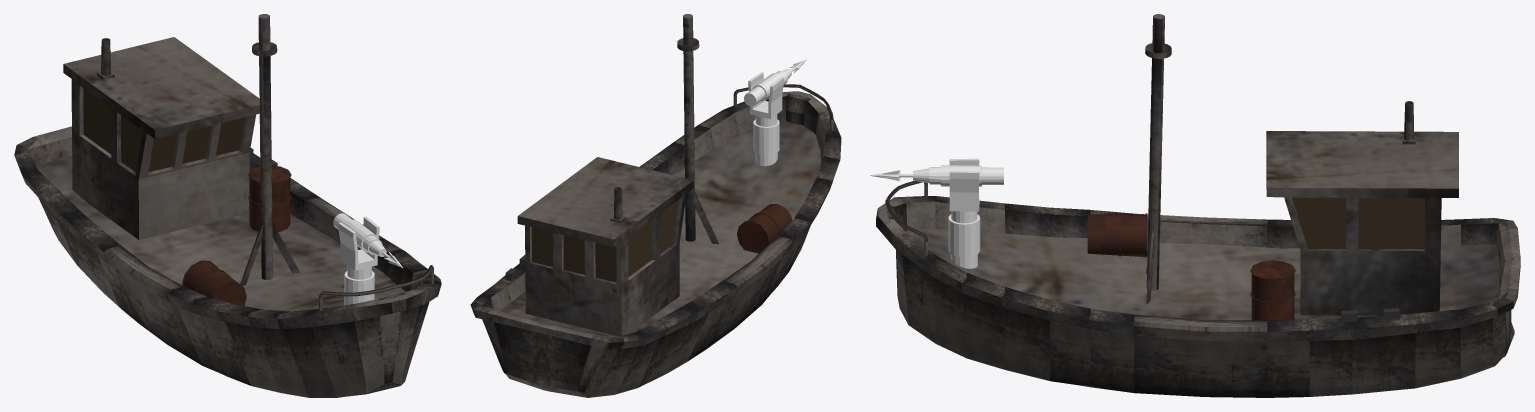
File: fishingboat01.fbx
3 renders of one model, left to right at view 1: azimuth 30°, elevation 25°; view 2: azimuth 150°, elevation 25°; view 3: azimuth 270°, elevation 25°, orthographic. The views are drawn at different scales.
Visible parts, largest first — view 1: boat_frame.003, ondergrond_1.001, ondergrond_1, ondergrond_1.002, ton_1, ton_1.001, HapoonStandTurrent, Cube.026, HapoonHolder, rek; view 2: boat_frame.003, ondergrond_1.001, ondergrond_1, ondergrond_1.002, ton_1.001, Cube.026, HapoonStandTurrent, HapoonHolder, rek; view 3: boat_frame.003, ondergrond_1.001, ondergrond_1, ondergrond_1.002, ton_1, ton_1.001, Cube.026, HapoonStandTurrent, HapoonHolder.
Boxes of the visible parts, x1=… form: boat_frame.003: x1=14, y1=126, x2=441, y2=397; ondergrond_1.001: x1=63, y1=37, x2=259, y2=239; ondergrond_1: x1=36, y1=155, x2=405, y2=311; ondergrond_1.002: x1=240, y1=14, x2=299, y2=286; ton_1: x1=248, y1=165, x2=291, y2=231; ton_1.001: x1=182, y1=260, x2=246, y2=305; HapoonStandTurrent: x1=338, y1=216, x2=379, y2=270; Cube.026: x1=344, y1=265, x2=374, y2=305; HapoonHolder: x1=333, y1=213, x2=386, y2=256; rek: x1=319, y1=265, x2=433, y2=310; boat_frame.003: x1=470, y1=91, x2=841, y2=397; ondergrond_1.001: x1=517, y1=157, x2=693, y2=336; ondergrond_1: x1=500, y1=121, x2=820, y2=337; ondergrond_1.002: x1=677, y1=14, x2=718, y2=244; ton_1.001: x1=737, y1=204, x2=791, y2=253; Cube.026: x1=753, y1=114, x2=779, y2=166; HapoonStandTurrent: x1=748, y1=72, x2=783, y2=119; HapoonHolder: x1=744, y1=69, x2=791, y2=106; rek: x1=733, y1=84, x2=833, y2=131; boat_frame.003: x1=876, y1=196, x2=1520, y2=397; ondergrond_1.001: x1=1266, y1=101, x2=1458, y2=315; ondergrond_1: x1=905, y1=229, x2=1498, y2=320; ondergrond_1.002: x1=1145, y1=14, x2=1171, y2=303; ton_1: x1=1250, y1=260, x2=1295, y2=320; ton_1.001: x1=1087, y1=213, x2=1147, y2=257; Cube.026: x1=948, y1=211, x2=980, y2=268; HapoonStandTurrent: x1=949, y1=158, x2=979, y2=211; HapoonHolder: x1=913, y1=165, x2=1003, y2=186.
Bounding box in the file's own units: 339 × 477 × 817.
